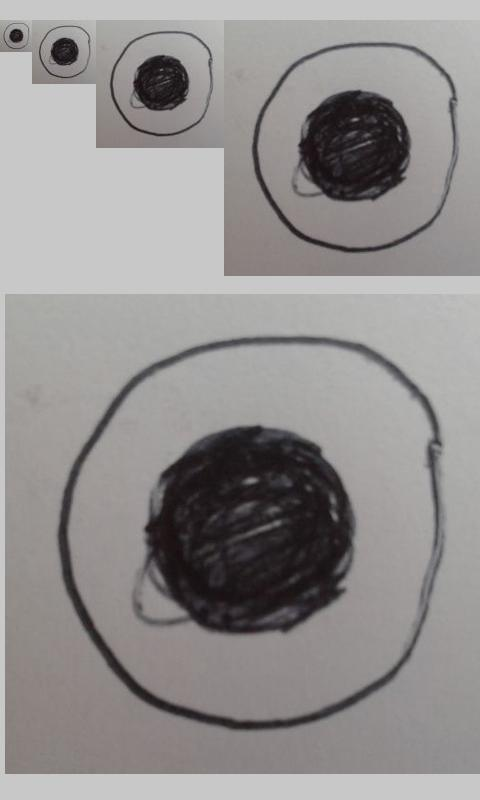radio_button: (57, 333, 447, 733), (252, 42, 459, 254), (110, 31, 214, 137), (39, 25, 91, 79), (3, 22, 30, 50)
